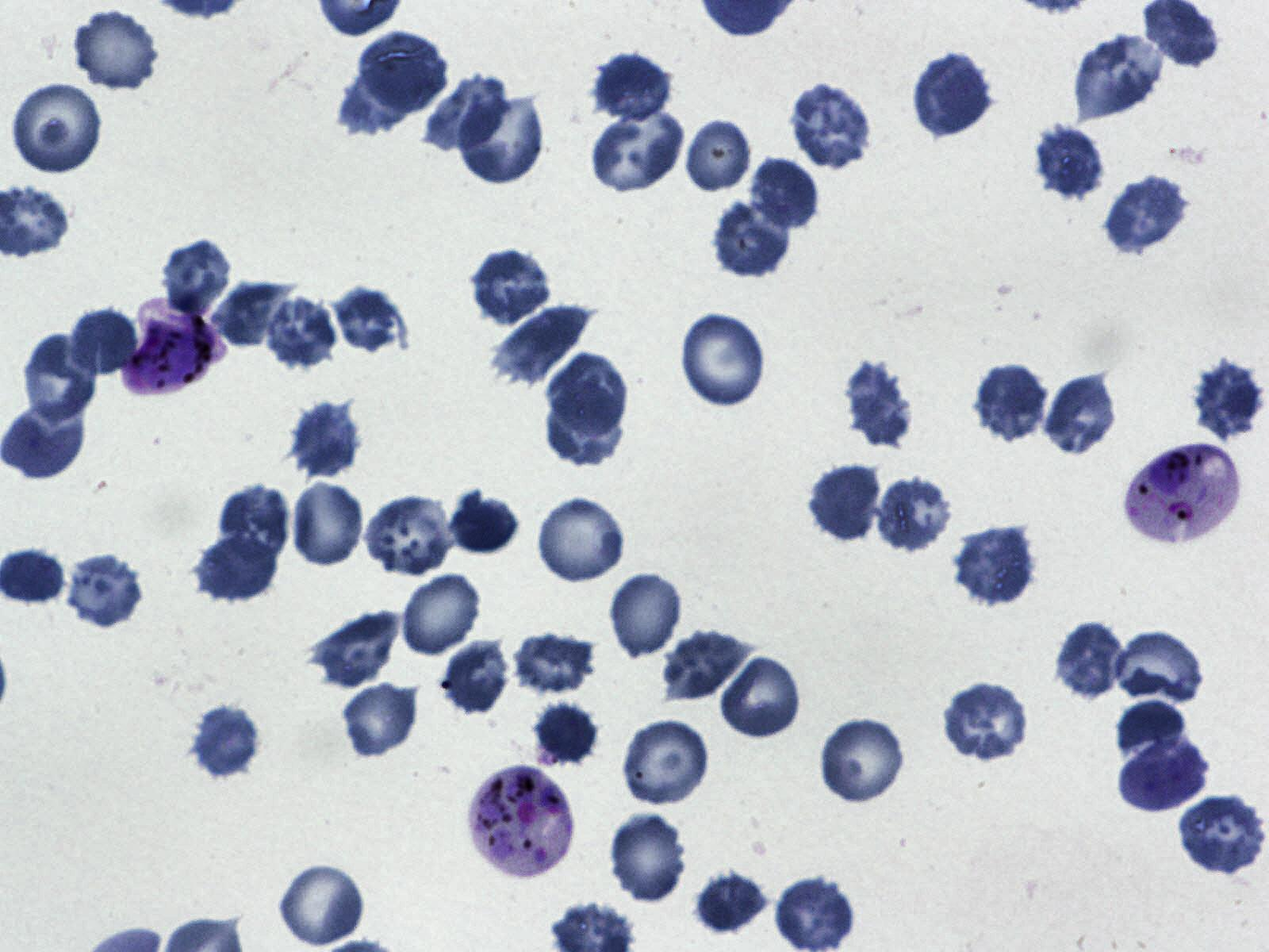Infected: (469, 766, 572, 876), (1125, 443, 1240, 541), (117, 297, 228, 398)
Uninfected: (676, 306, 766, 411), (10, 79, 103, 176), (590, 102, 688, 193), (816, 714, 909, 808), (456, 90, 546, 185), (535, 494, 628, 585), (620, 716, 712, 807), (492, 305, 588, 388), (608, 810, 690, 906), (361, 497, 458, 578), (277, 862, 368, 948), (1072, 33, 1168, 114), (717, 654, 804, 743), (71, 6, 159, 93), (20, 330, 100, 425), (399, 570, 485, 658), (1110, 629, 1202, 709), (942, 681, 1031, 763), (1178, 795, 1268, 876), (311, 605, 401, 686), (787, 85, 873, 169), (360, 31, 447, 114), (424, 71, 511, 154), (0, 399, 85, 482), (1118, 737, 1211, 812), (609, 570, 685, 661), (711, 197, 793, 280), (914, 53, 993, 139), (290, 480, 366, 569), (954, 526, 1037, 607), (1106, 174, 1190, 253), (663, 630, 756, 701), (470, 248, 552, 328), (62, 550, 144, 630), (218, 486, 297, 569), (1045, 371, 1121, 457), (873, 474, 953, 555), (974, 361, 1050, 446), (839, 360, 912, 447), (808, 462, 884, 545), (546, 385, 622, 468), (773, 877, 856, 952), (159, 234, 232, 316), (594, 51, 673, 126), (1191, 359, 1266, 438), (551, 359, 623, 441), (210, 278, 295, 347), (188, 703, 263, 781), (1033, 124, 1107, 202), (194, 534, 277, 603), (288, 401, 362, 478), (327, 284, 403, 358), (345, 685, 426, 754), (1055, 624, 1126, 701), (691, 870, 771, 938), (686, 119, 753, 198), (512, 633, 596, 694), (749, 158, 818, 231), (70, 305, 137, 378), (264, 298, 334, 366), (443, 641, 508, 713), (450, 490, 519, 554), (1114, 700, 1187, 755), (535, 697, 596, 762)
